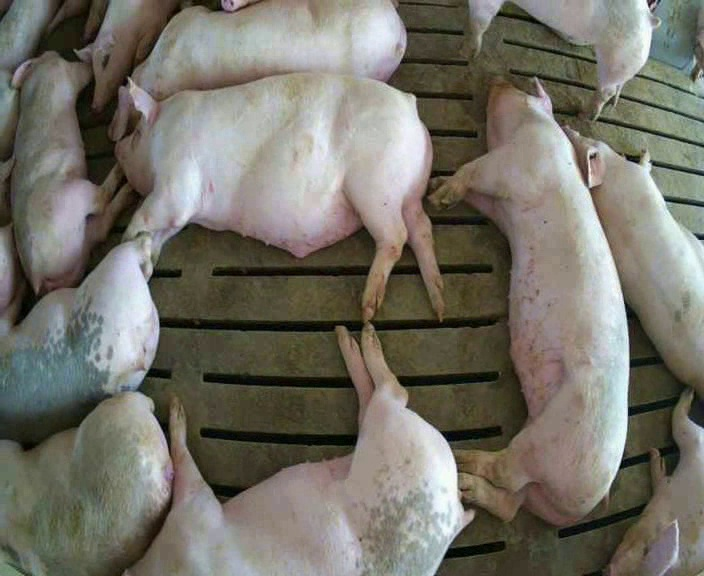pig: (430, 82, 627, 524), (126, 325, 473, 574), (116, 73, 442, 319), (565, 127, 703, 399), (0, 237, 158, 442), (0, 392, 172, 574), (11, 51, 131, 294), (607, 389, 703, 574), (77, 1, 176, 111), (0, 1, 59, 71)
